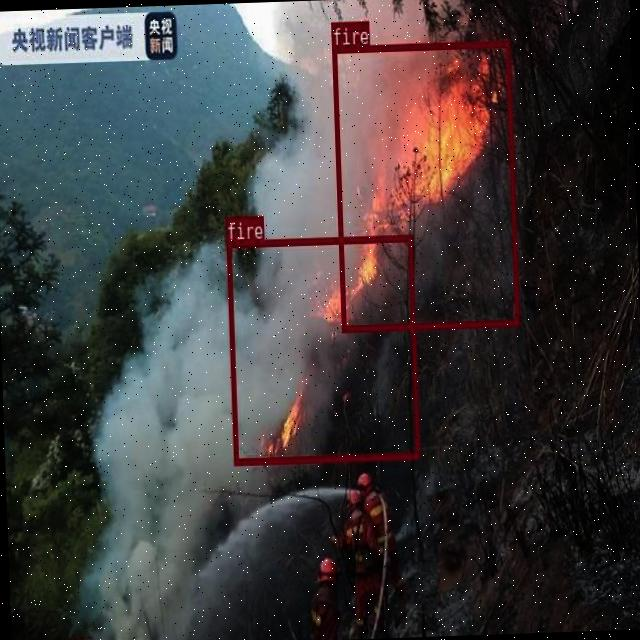fire: (331, 40, 519, 331), (226, 234, 418, 464)
